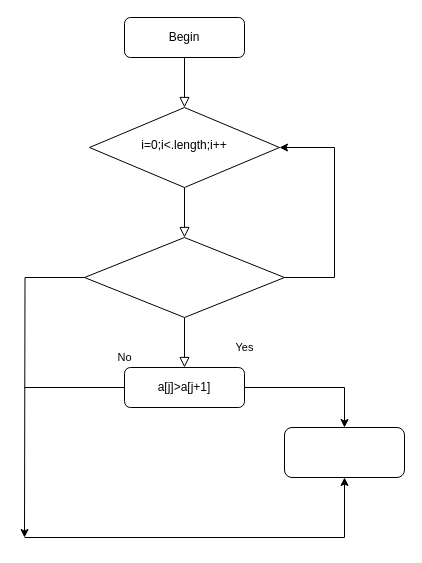
Image size: 422x563. Some labels were removed from this diagram. Here are the shapes that lost their labels. From the top down, the centre of each, then its label:
At pixel 184 277: "j=0;j<.length-1;j++".
At pixel 344 452: "max=a[j]; a[j]=a[j+1]; a[j+1]=max;".
